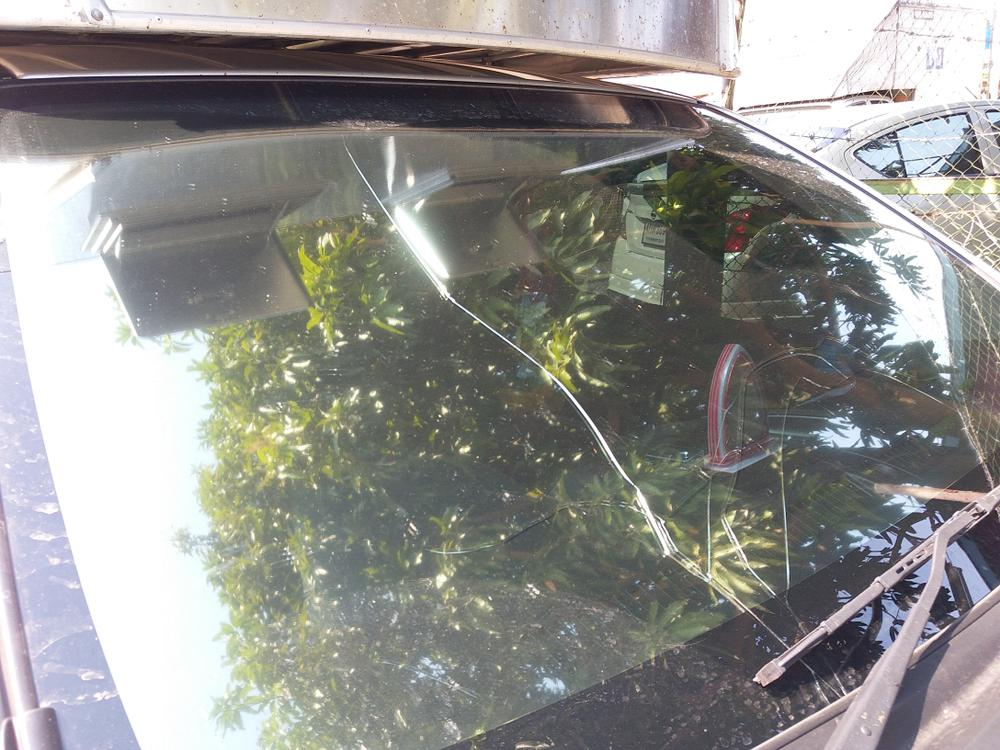glass shatter: (0, 110, 1000, 750)
